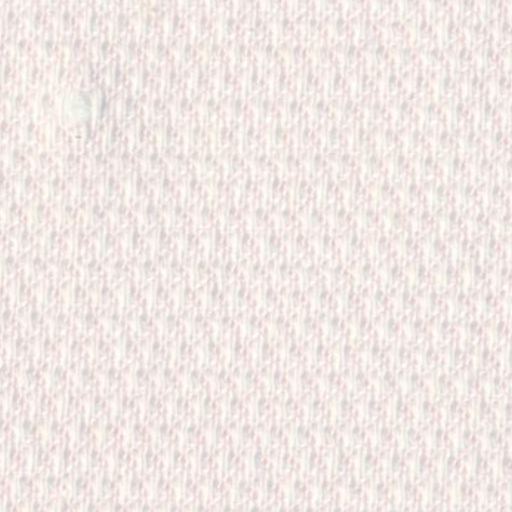MianQiu: (36, 51, 132, 162)
